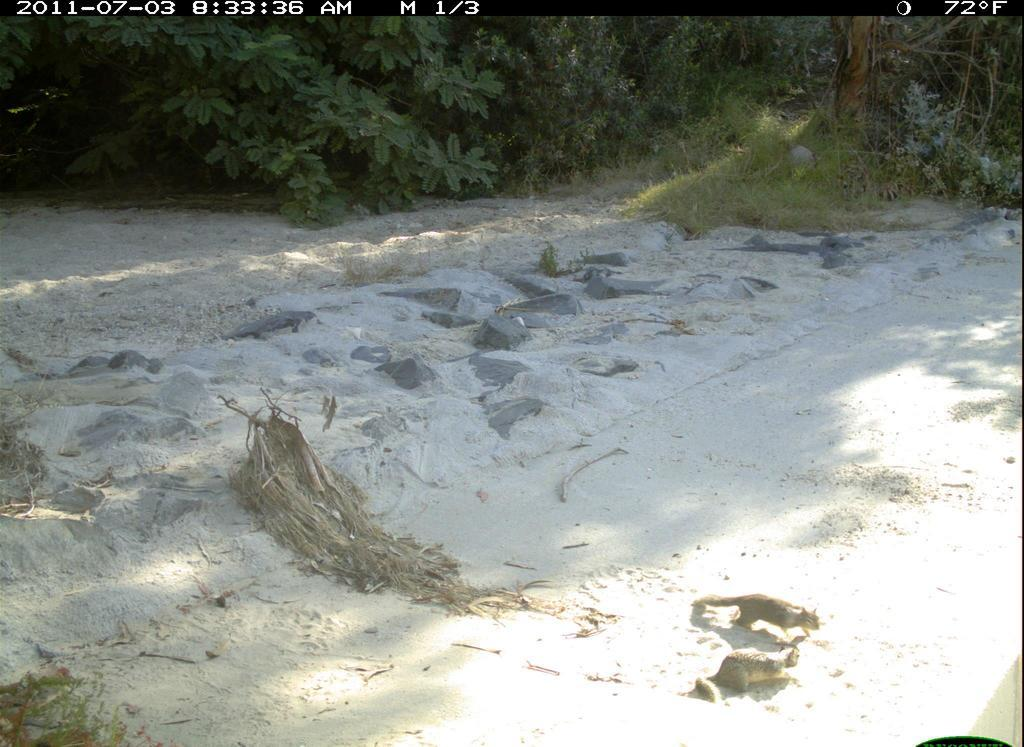squirrel: (684, 635, 815, 711), (687, 582, 829, 641)
